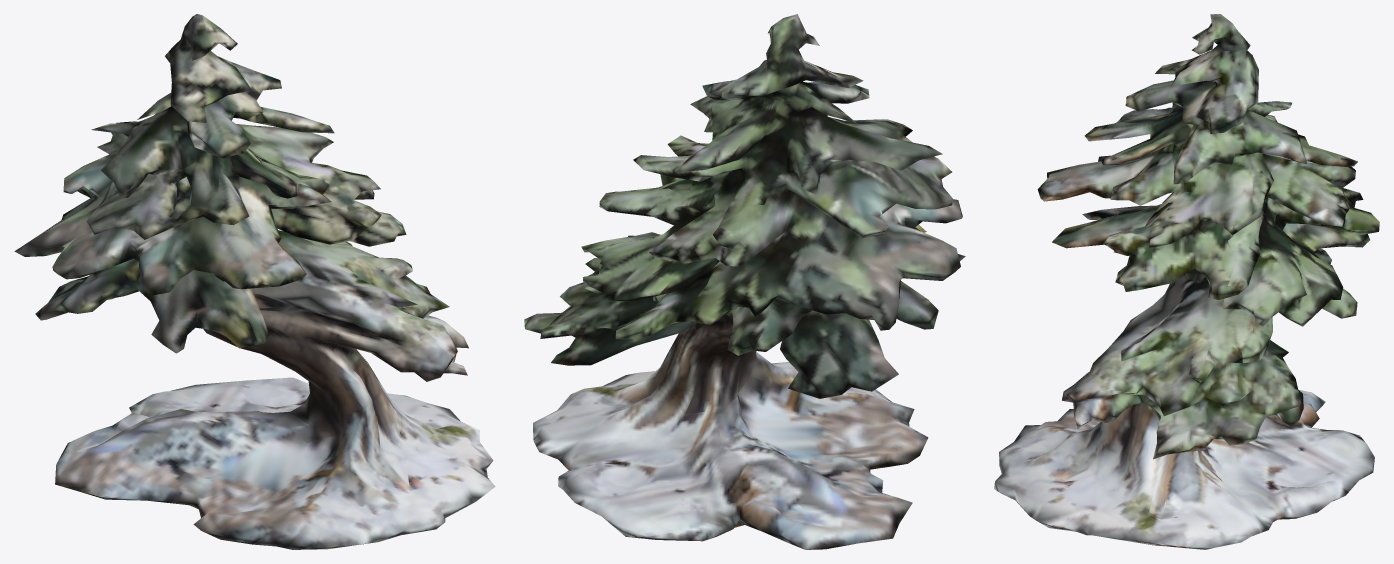
Rendered from ThirdRoom_CanyonPine.fbx.
The picture shows the model from 3 angles, left to right: view 1: azimuth 30°, elevation 25°; view 2: azimuth 150°, elevation 25°; view 3: azimuth 270°, elevation 25°; orthographic projection. The views are drawn at different scales.
Parts seen in each view (by area): view 1: ThirdRoom_CanyonPine_Mesh; view 2: ThirdRoom_CanyonPine_Mesh; view 3: ThirdRoom_CanyonPine_Mesh.
Part boxes in pixels (<box>): ThirdRoom_CanyonPine_Mesh: <box>14,14,495,549</box>; ThirdRoom_CanyonPine_Mesh: <box>524,14,965,549</box>; ThirdRoom_CanyonPine_Mesh: <box>994,14,1379,549</box>.
Bounding box in the file's own units: 5.4 × 6 × 4.88.
Materials: 1 (1 with a texture image).
